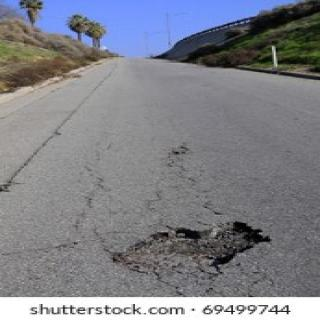pothole: (106, 222, 264, 295)
